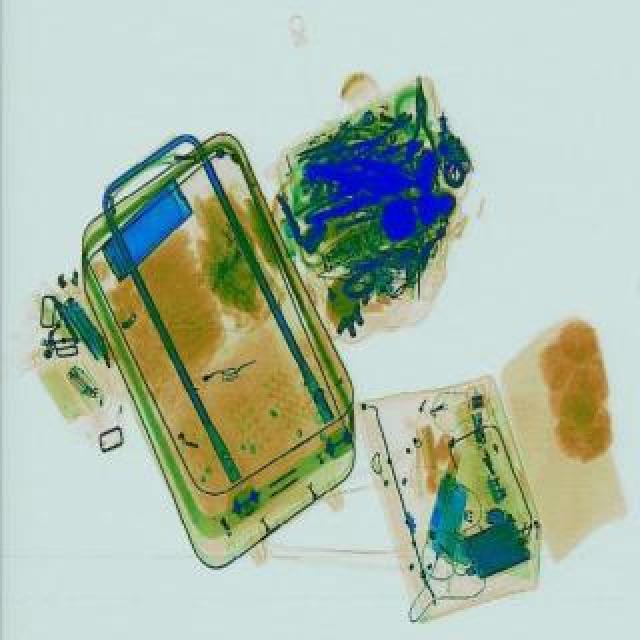scissors: (352, 112, 414, 158)
wrench: (404, 78, 438, 182)
